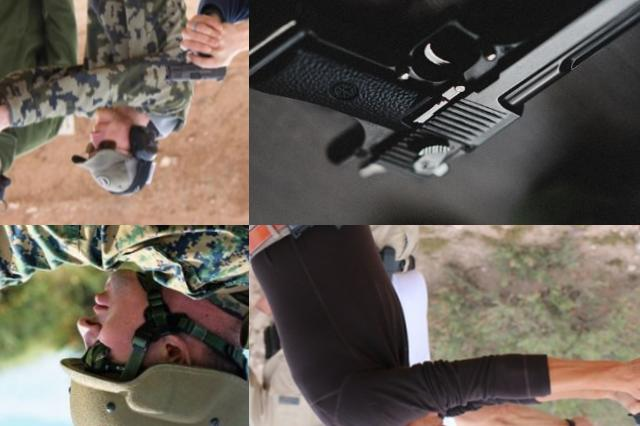handgun: (249, 0, 640, 195), (0, 342, 66, 426), (160, 38, 228, 86), (0, 99, 30, 154)
